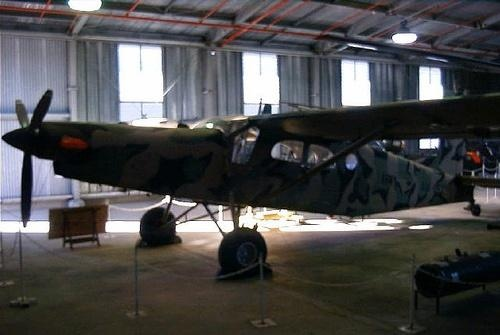aeroplane: (2, 90, 500, 281)
